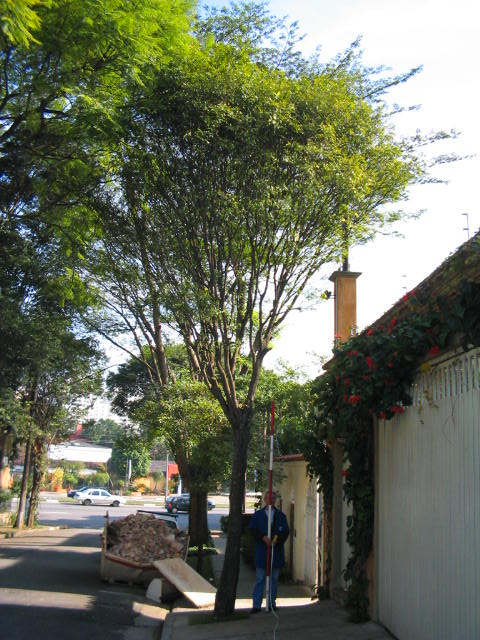crown: (78, 49, 461, 314)
stem: (206, 419, 260, 616), (180, 483, 218, 551)
stick: (259, 401, 280, 613)
tree: (78, 47, 462, 618)
